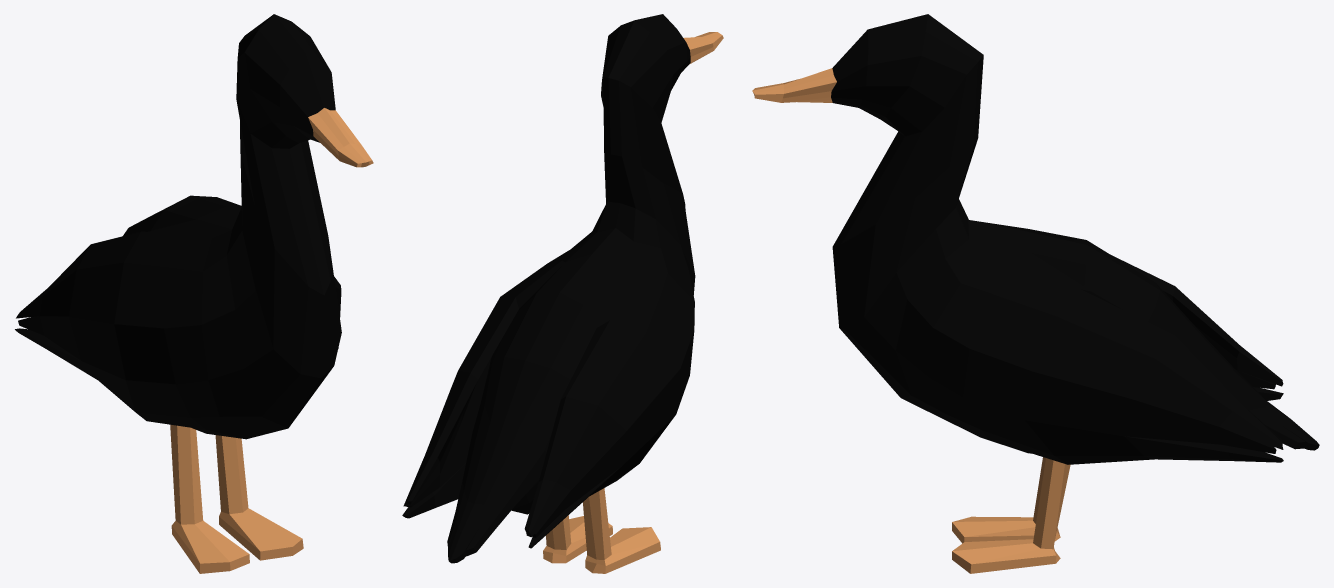
The model's file is 03duckFinal.fbx.
3 views of the same model, side by side, from view 1: azimuth 30°, elevation 25°; view 2: azimuth 150°, elevation 25°; view 3: azimuth 270°, elevation 25° (orthographic). The views are drawn at different scales.
Parts seen in each view (by area): view 1: 03duckFinal; view 2: 03duckFinal; view 3: 03duckFinal.
Part boxes in pixels (left/top/right/bottom): 03duckFinal: left=15, top=14, right=373, bottom=573; 03duckFinal: left=402, top=14, right=723, bottom=573; 03duckFinal: left=752, top=14, right=1319, bottom=573.
Size of the model in its own units: 20.29 by 51.74 by 49.66.
